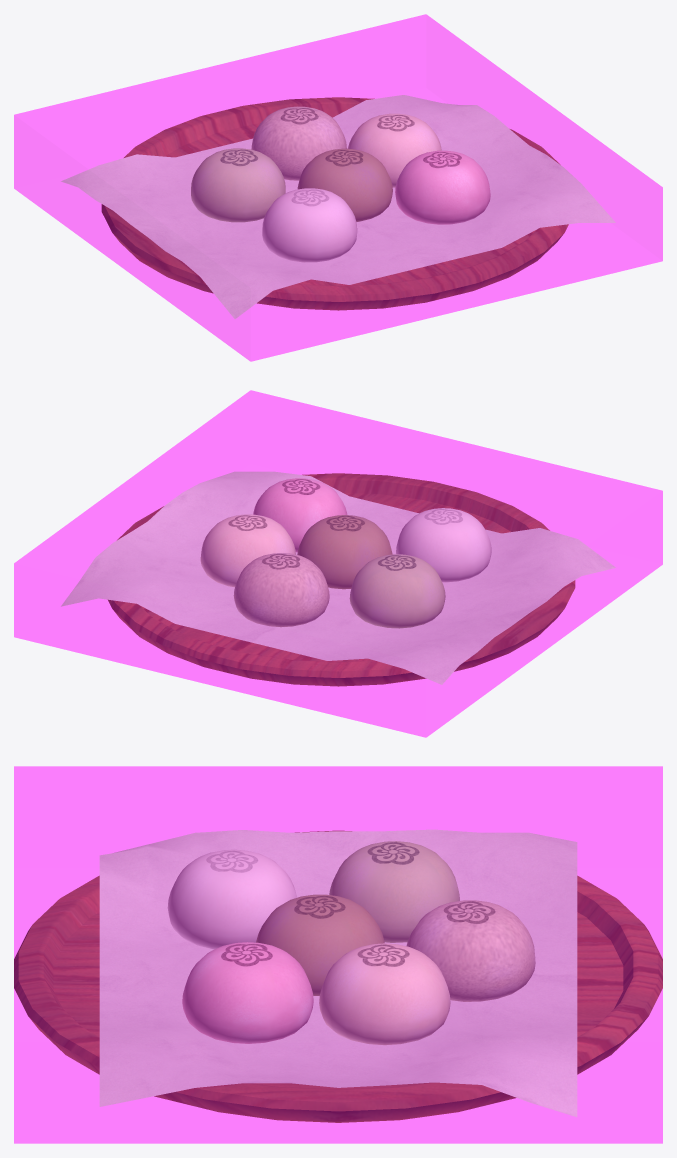
The model's file is bun.fbx.
The picture shows the model from 3 angles, top to bottom: view 1: azimuth 30°, elevation 25°; view 2: azimuth 150°, elevation 25°; view 3: azimuth 270°, elevation 25°; orthographic projection. The views are drawn at different scales.
Visible parts, largest first — view 1: boundingbox, bun; view 2: boundingbox, bun; view 3: boundingbox, bun.
Boxes of the visible parts, left/top/right/bottom form: boundingbox: left=14, top=14, right=662, bottom=361; bun: left=61, top=95, right=615, bottom=318; boundingbox: left=14, top=390, right=662, bottom=737; bun: left=61, top=471, right=615, bottom=686; boundingbox: left=14, top=766, right=662, bottom=1143; bun: left=14, top=829, right=662, bottom=1122.
Size of the model in its own units: 20 by 3.42 by 19.89.
Materials: 9 (8 with a texture image).
